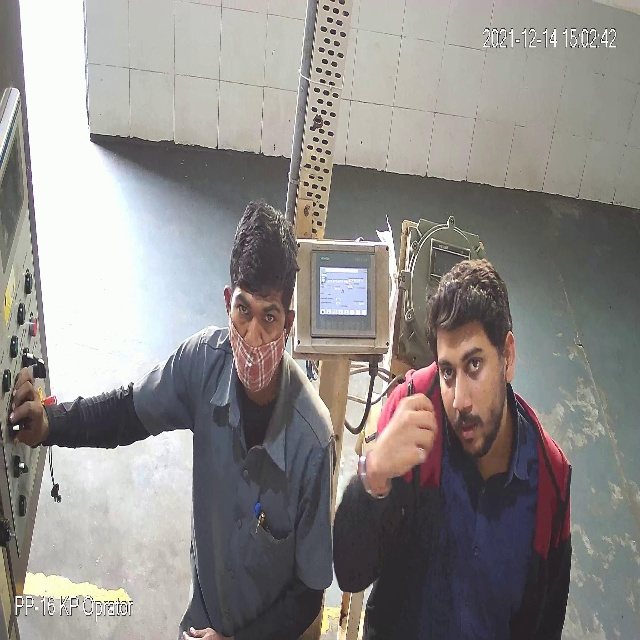Sin_gafas: (436, 341, 494, 383), (231, 291, 285, 328)
Sin_mascara: (438, 378, 499, 453)
